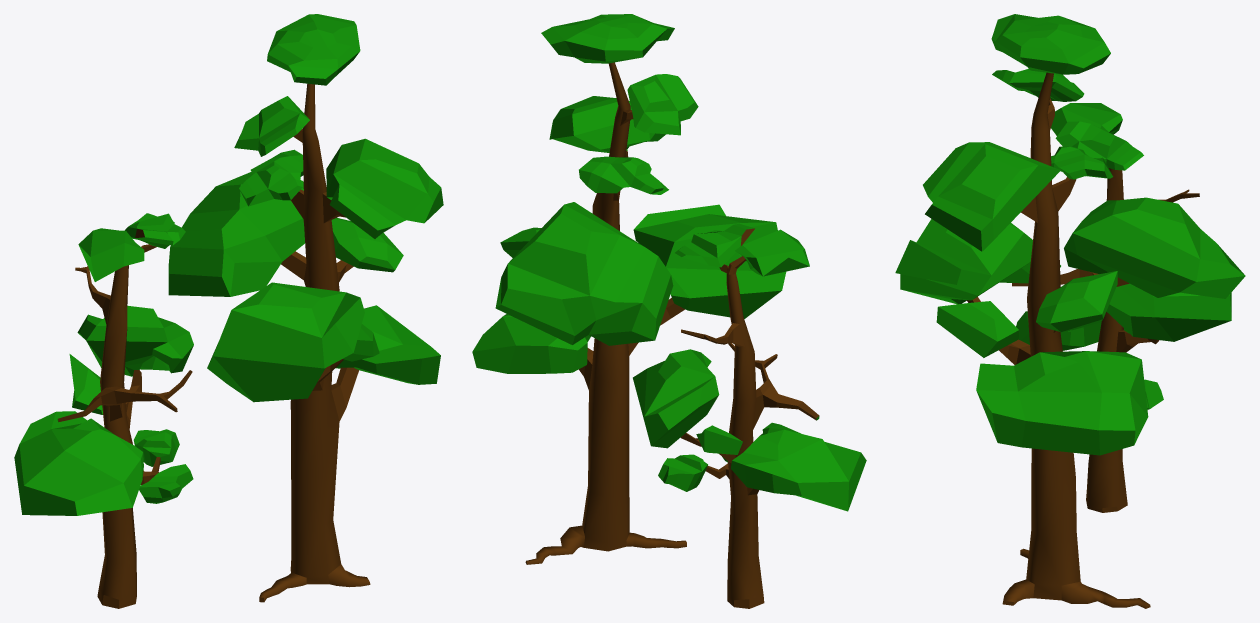
Rendered from baum_d008.FBX.
The picture shows the model from 3 angles, left to right: view 1: azimuth 30°, elevation 25°; view 2: azimuth 150°, elevation 25°; view 3: azimuth 270°, elevation 25°; orthographic projection. The views are drawn at different scales.
Parts seen in each view (by area): view 1: Baum_D008; view 2: Baum_D008; view 3: Baum_D008.
Part boxes in pixels (box(x1,y1,x2,y2)): Baum_D008: box(14, 14, 443, 608); Baum_D008: box(472, 14, 866, 608); Baum_D008: box(895, 14, 1245, 608).
Size of the model in its own units: 46.2 by 63.22 by 35.63.
